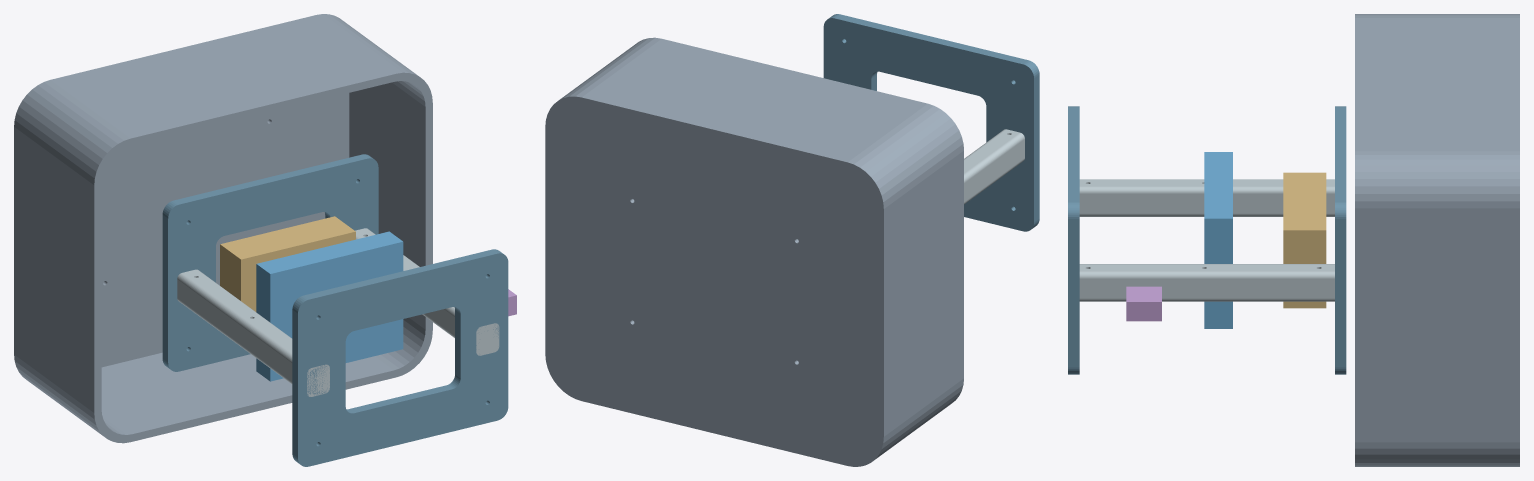
Rendered from Electronics_Space_Study.glb.
The picture shows the model from 3 angles, left to right: view 1: azimuth 30°, elevation 25°; view 2: azimuth 150°, elevation 25°; view 3: azimuth 270°, elevation 25°; orthographic projection. The views are drawn at different scales.
Visible parts, largest first — view 1: HBR-018, HBR-006, HBR-007, COMPUTE_SPACE_PLACEHOLDER, HBR-008, BATTERY_SPACE_PLACEHOLDER, HBR-009; view 2: HBR-018, HBR-006, HBR-008; view 3: HBR-018, HBR-009, HBR-008, BATTERY_SPACE_PLACEHOLDER, COMPUTE_SPACE_PLACEHOLDER, HBR-007, HBR-006, SERVO_SPACE_PLACEHOLDER.
Part boxes in pixels (x1,y1,x2,y2): HBR-018: (14, 14, 432, 443); HBR-006: (292, 249, 508, 466); HBR-007: (162, 154, 378, 371); COMPUTE_SPACE_PLACEHOLDER: (256, 231, 403, 381); HBR-008: (177, 269, 329, 396); BATTERY_SPACE_PLACEHOLDER: (220, 216, 355, 311); HBR-009: (355, 228, 499, 355); HBR-018: (545, 37, 963, 466); HBR-006: (823, 14, 1039, 231); HBR-008: (964, 129, 1024, 204); HBR-018: (1355, 14, 1519, 466); HBR-009: (1079, 264, 1334, 301); HBR-008: (1079, 179, 1334, 216); BATTERY_SPACE_PLACEHOLDER: (1283, 172, 1326, 308); COMPUTE_SPACE_PLACEHOLDER: (1204, 152, 1232, 328); HBR-007: (1335, 106, 1346, 374); HBR-006: (1068, 106, 1079, 374); SERVO_SPACE_PLACEHOLDER: (1126, 286, 1161, 321).
Bounding box in the file's own units: 280 × 240 × 315.
